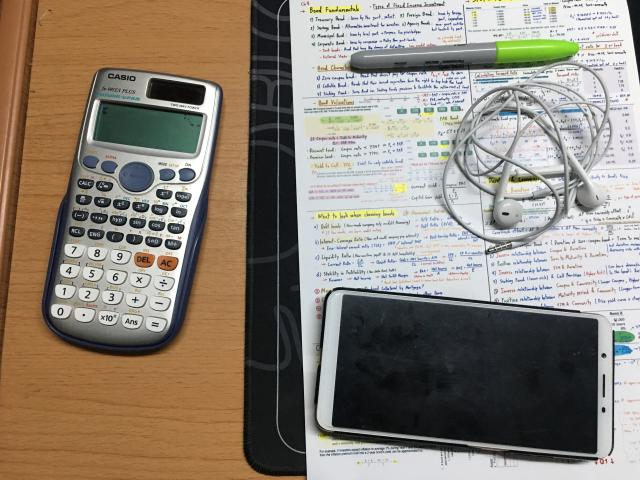Mobile phone: (315, 288, 614, 460)
Pen: (351, 40, 579, 69)
paper: (290, 0, 640, 479)
wire: (442, 61, 612, 254)
